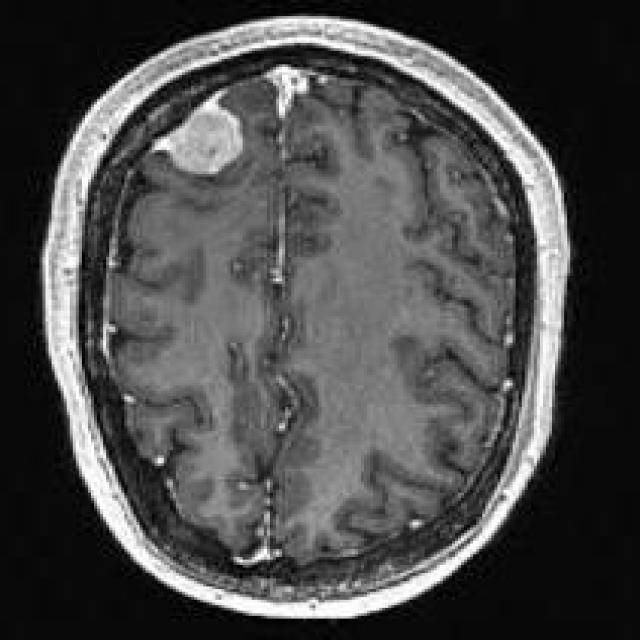Tumor-Cell: (144, 79, 280, 193)
